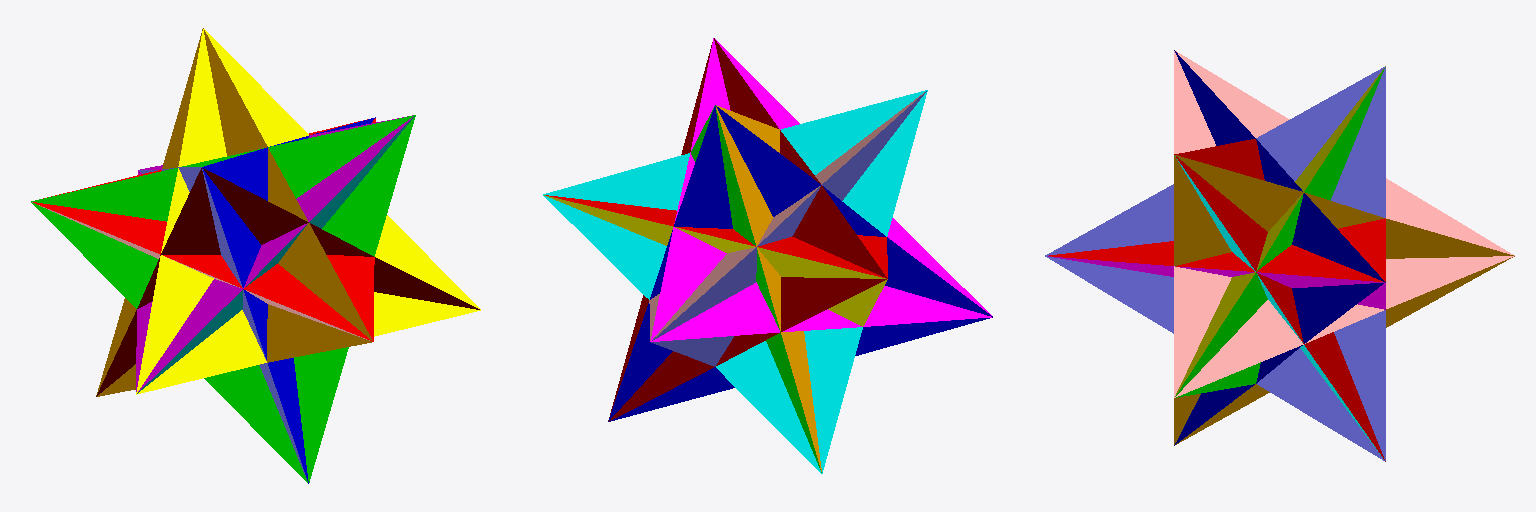
3 views of the same model, side by side, from view 1: azimuth 30°, elevation 25°; view 2: azimuth 150°, elevation 25°; view 3: azimuth 270°, elevation 25° (orthographic).
Visible parts, largest first — view 1: gi1.001; view 2: gi1.001; view 3: gi1.001.
Boxes of the visible parts, box(x1,y1,x2,y2) form: gi1.001: box(31, 28, 480, 483); gi1.001: box(543, 38, 992, 473); gi1.001: box(1045, 50, 1514, 461).
Size of the model in its own units: 2 by 2.1 by 2.36.